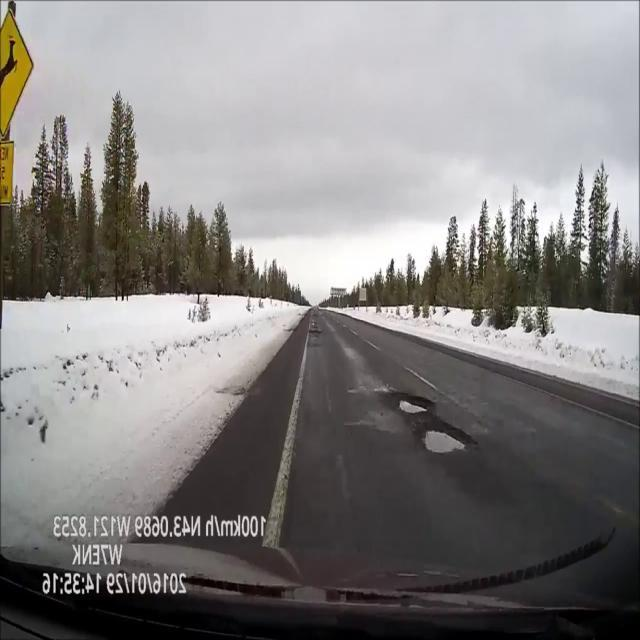pothole: (419, 423, 472, 456), (396, 393, 435, 422), (311, 322, 319, 329), (313, 314, 318, 321), (310, 331, 321, 334)
